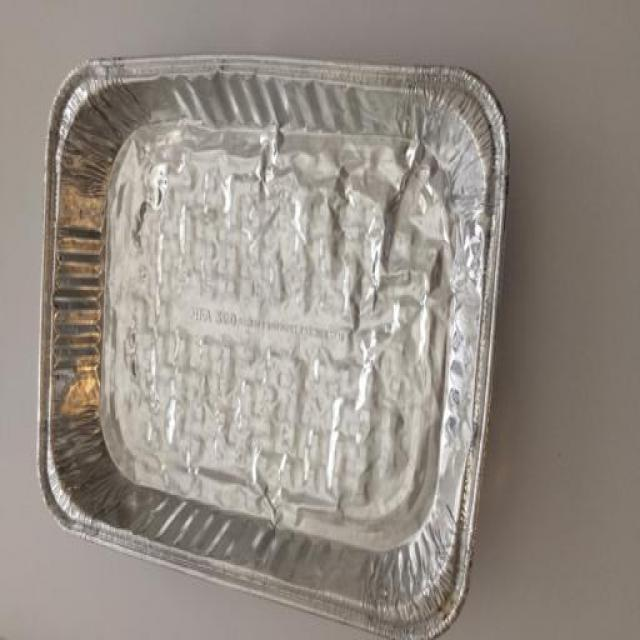metel: (44, 71, 474, 611)
